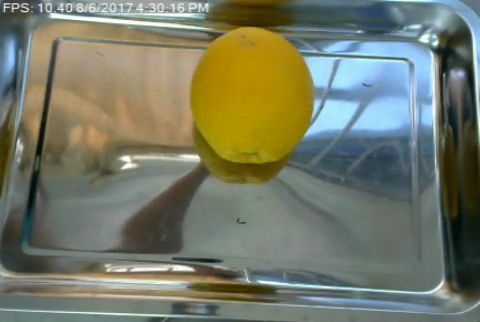Orange: (189, 24, 316, 165)
